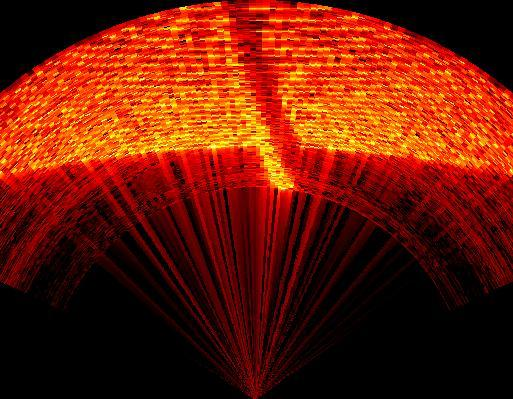pipe: (224, 1, 302, 180)
